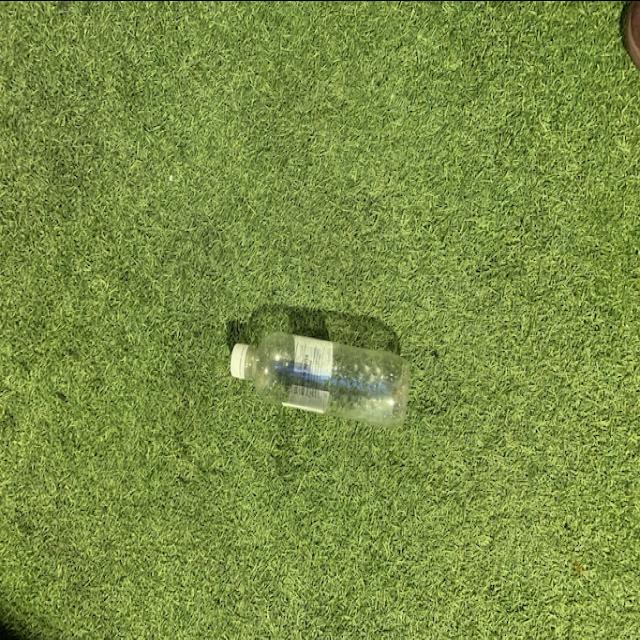PET: (230, 330, 410, 428)
